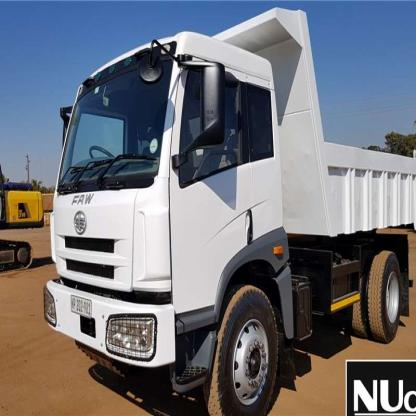dump_truck: (30, 7, 416, 410)
